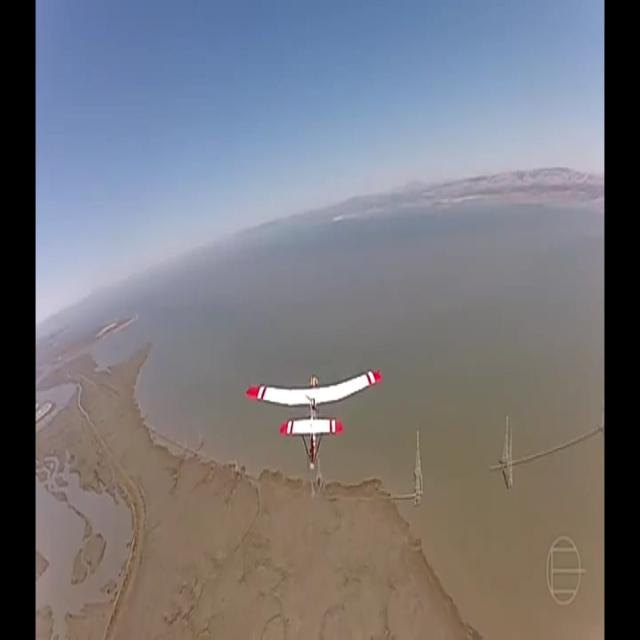iha: (248, 400, 380, 439)
